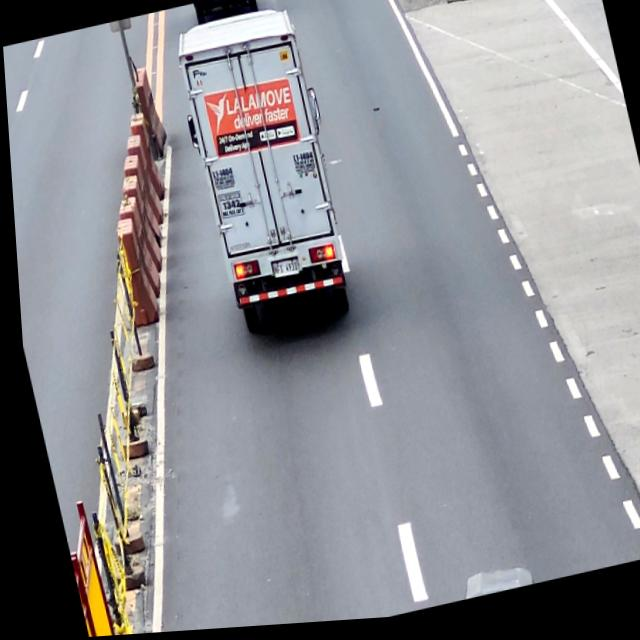License-Plate: (266, 261, 296, 284)
Truck: (165, 4, 362, 346)
